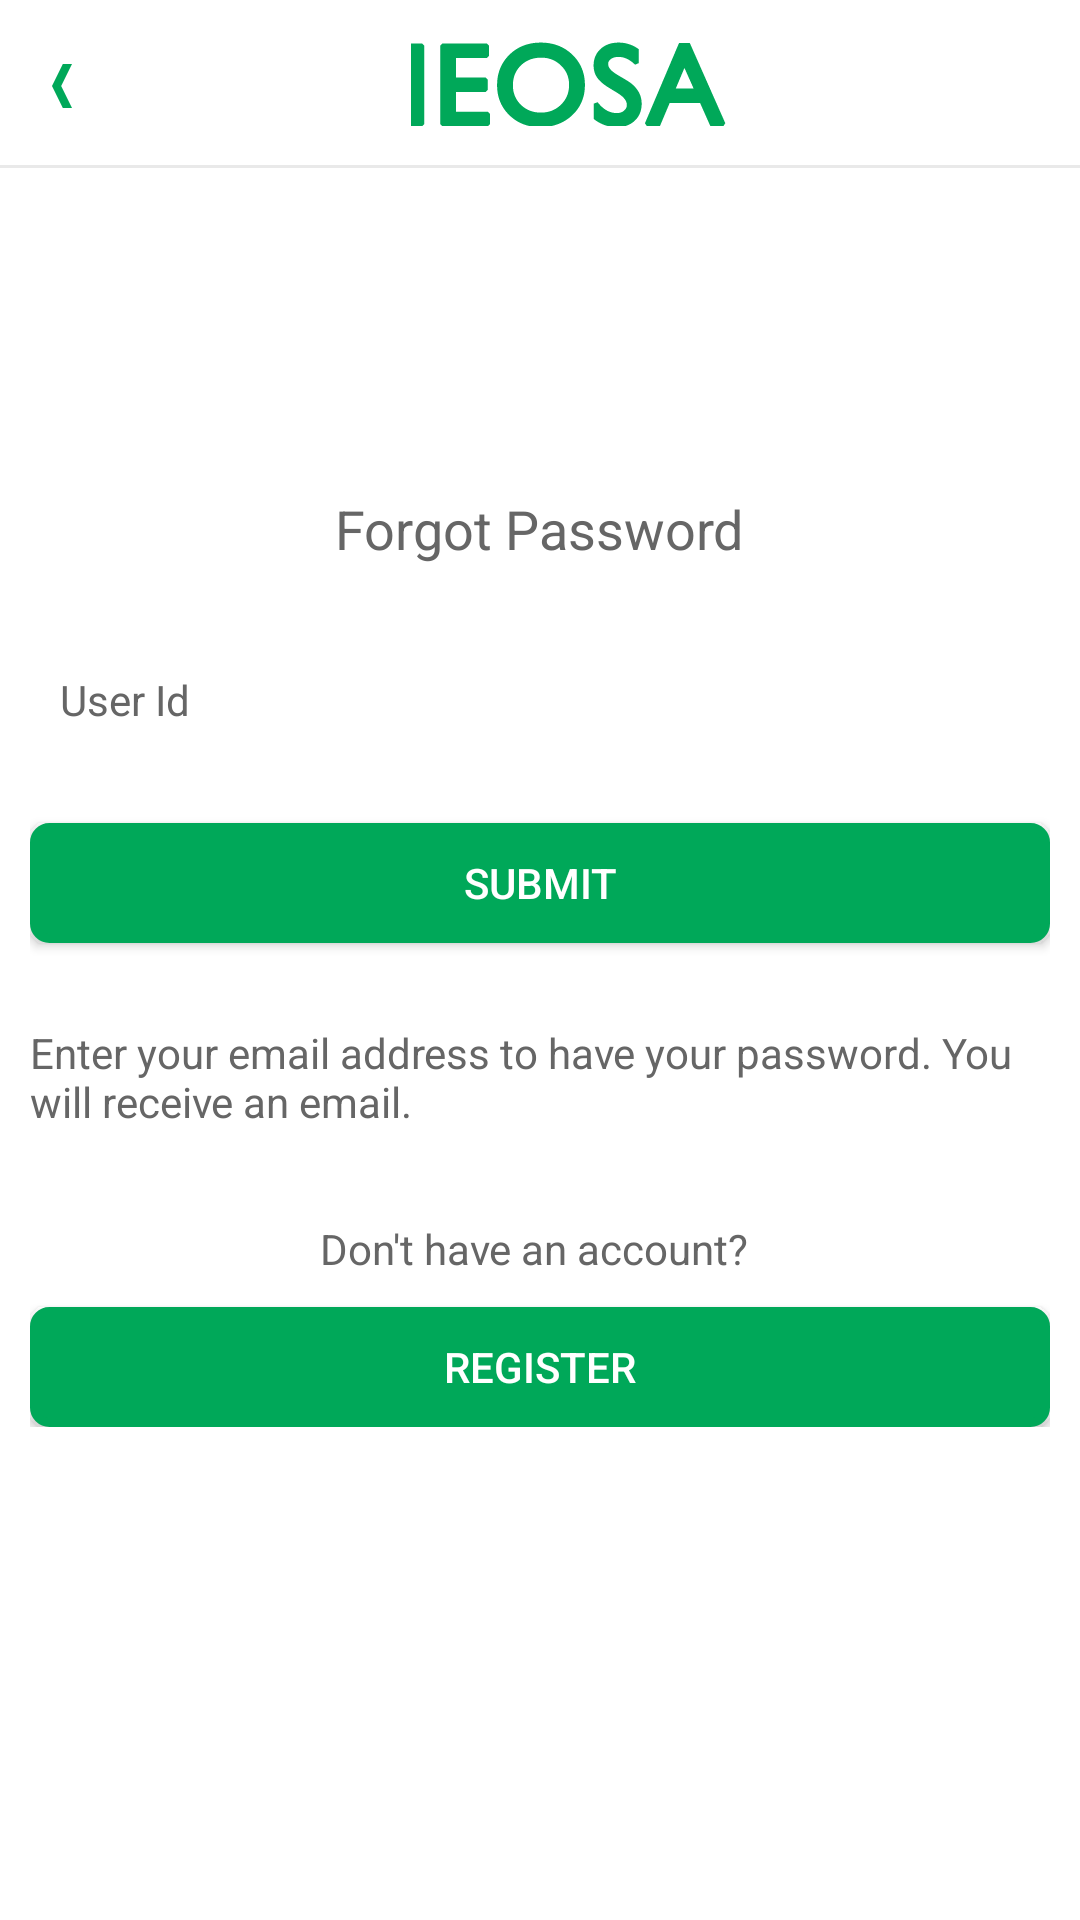

Icon click points for this 1080w x 1920h phone screenshot, format [x,y]:
back aero: [62,86]
